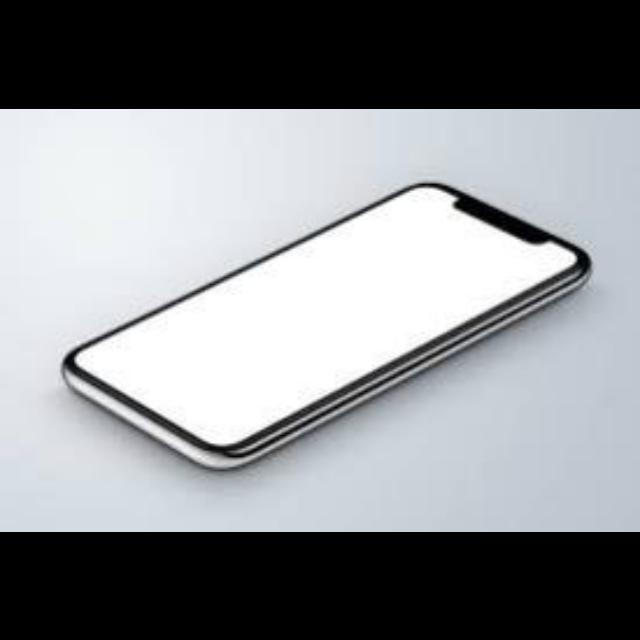PhoneUse: (55, 171, 620, 473)
